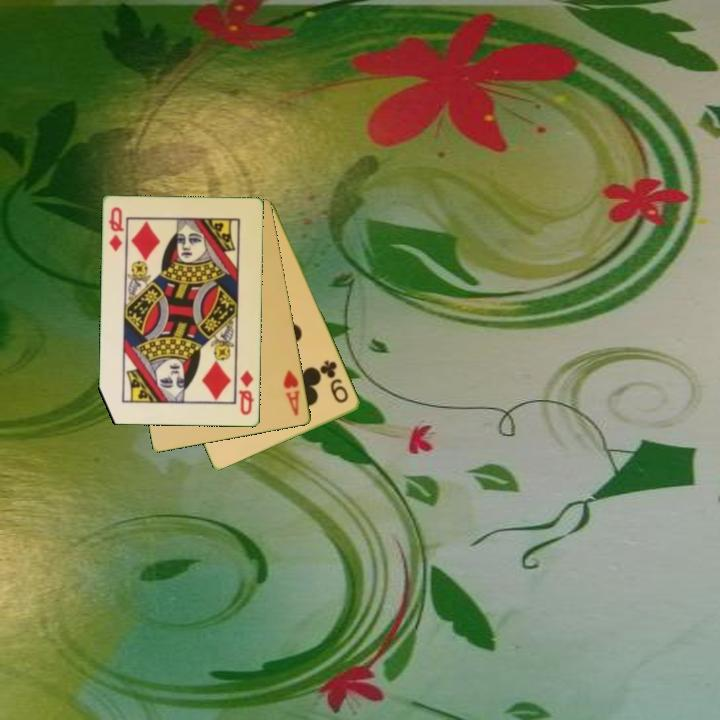9c: (317, 357, 352, 406)
Ah: (280, 366, 303, 419)
Qd: (236, 367, 257, 418), (106, 204, 127, 255)
